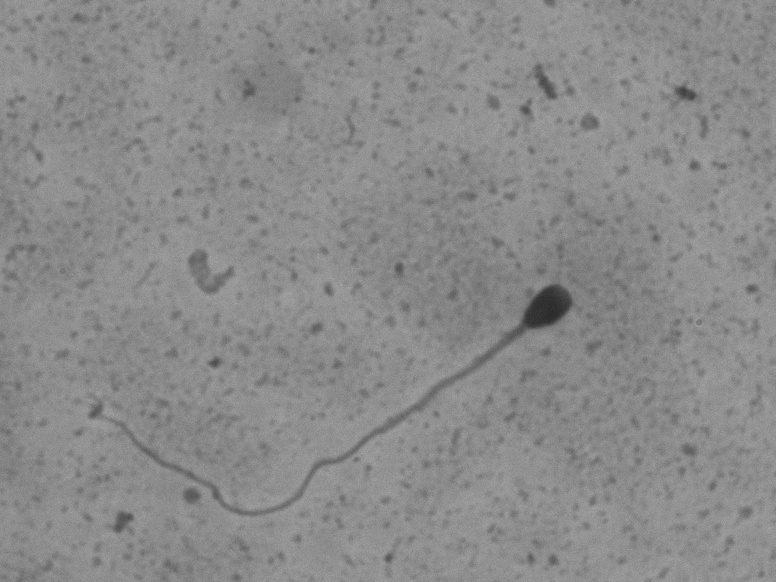Normal: (84, 228, 630, 527)
